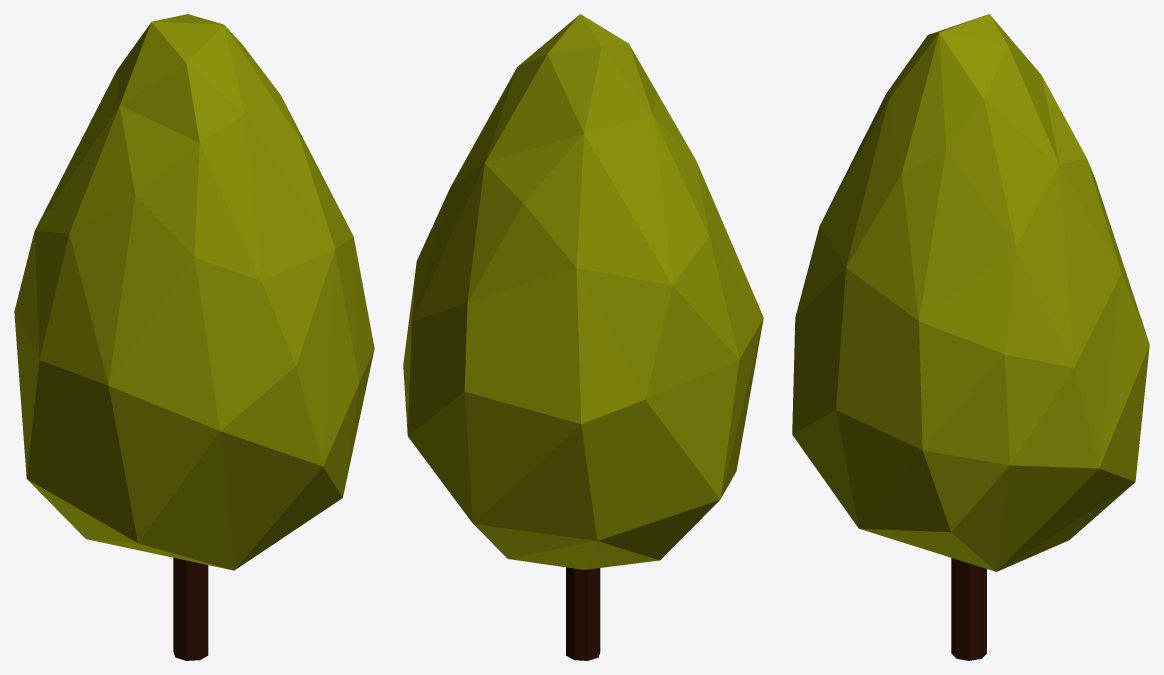
Rendered from tree1.fbx.
3 renders of one model, left to right at view 1: azimuth 30°, elevation 25°; view 2: azimuth 150°, elevation 25°; view 3: azimuth 270°, elevation 25°, orthographic.
Parts seen in each view (by area): view 1: tree124, tree123; view 2: tree124, tree123; view 3: tree124, tree123.
Boxes of the visible parts, x1,y1,x2,y2 form: tree124: [14, 14, 374, 570]; tree123: [173, 558, 208, 660]; tree124: [403, 14, 763, 569]; tree123: [566, 567, 600, 660]; tree124: [792, 14, 1149, 571]; tree123: [951, 558, 986, 660].
Bounding box in the file's own units: 40.74 × 77.86 × 40.07.
